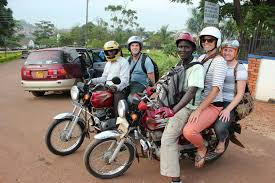helmet: (198, 25, 225, 57), (176, 29, 195, 64), (102, 38, 124, 63), (126, 35, 144, 55)
